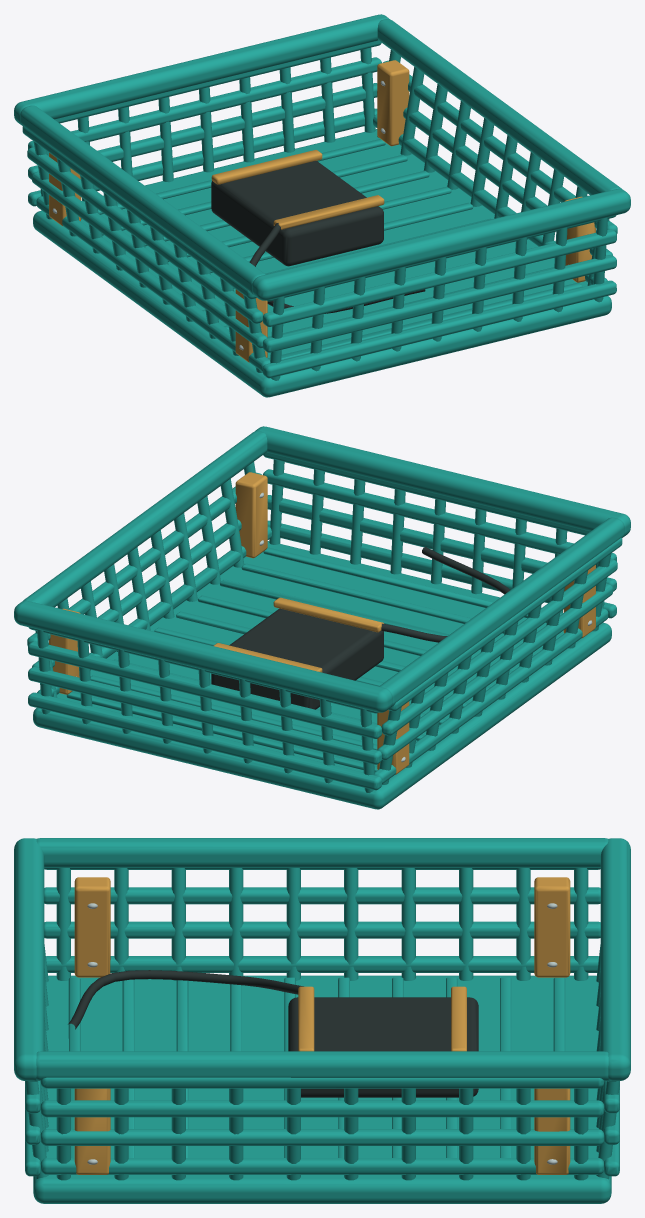
The model's file is basket.glb.
3 renders of one model, top to bottom at view 1: azimuth 30°, elevation 25°; view 2: azimuth 150°, elevation 25°; view 3: azimuth 270°, elevation 25°, orthographic. The views are drawn at different scales.
Visible parts, largest first — view 1: plastic, dark, brass; view 2: plastic, dark, brass; view 3: plastic, brass, dark.
Part boxes in pixels (left/top/right/bottom): plastic: left=14, top=14, right=630, bottom=397; dark: left=211, top=161, right=425, bottom=313; brass: left=49, top=60, right=595, bottom=362; plastic: left=14, top=426, right=630, bottom=809; dark: left=211, top=547, right=509, bottom=709; brass: left=49, top=472, right=595, bottom=774; plastic: left=14, top=838, right=630, bottom=1203; brass: left=74, top=877, right=570, bottom=1174; dark: left=68, top=970, right=478, bottom=1097.
Bounding box in the file's own units: 1.49 × 0.4775 × 1.72.
